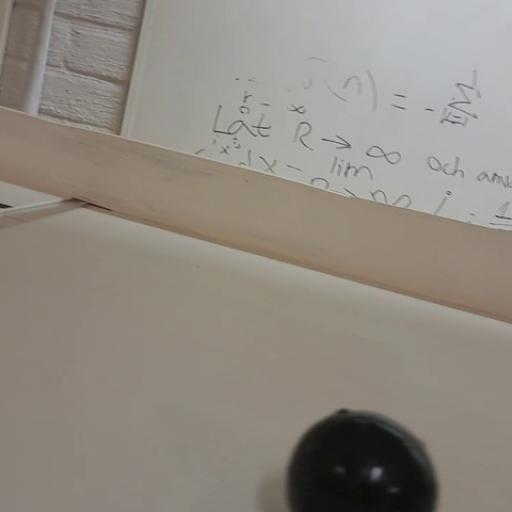dead: (288, 409, 438, 511)
